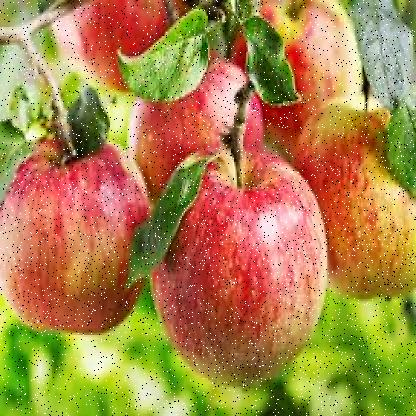apple: (150, 166, 329, 387), (5, 148, 144, 328), (302, 103, 414, 297), (126, 56, 270, 198), (234, 9, 370, 153), (53, 7, 180, 108)
